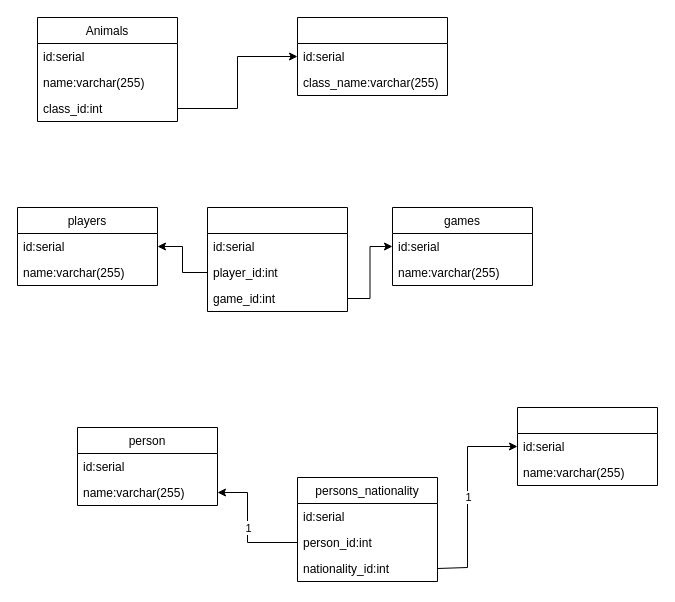
This 675x602 diagram has some shape labels left out. The box of each missing label's shape, as (x1, y1, x2, y2) in pixels:
Animal_class: (296, 16, 448, 96)
games_by_players: (206, 206, 348, 312)
nationality: (516, 406, 658, 486)
